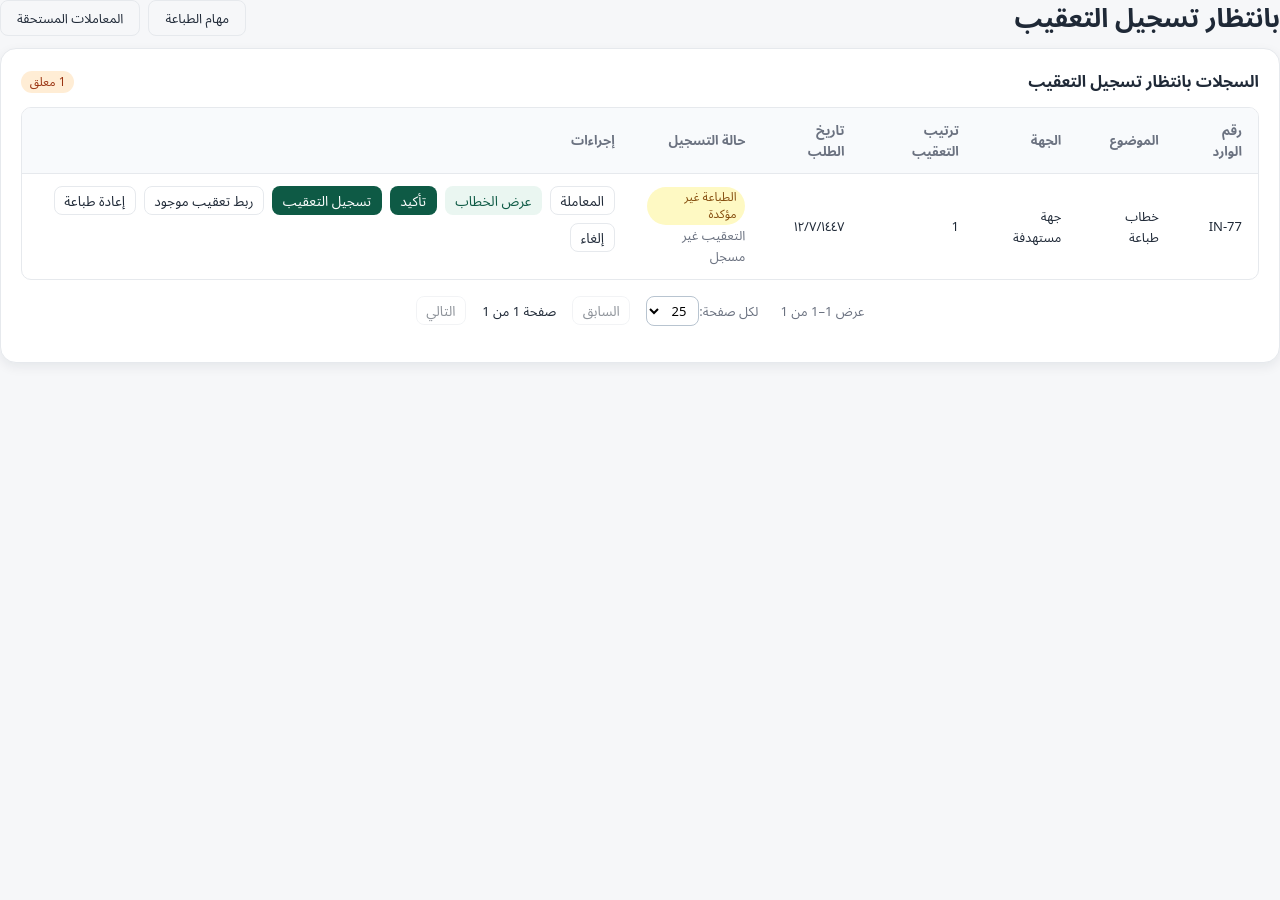
Test case: FollowUpPrintPendingPage › shows an empty-state message inside the link-existing modal when no follow-ups exist
The image size is (1280, 900).
Expected: the text "IN-77" is shown, [1175,174,1258,279]
Click the button "ربط تعقيب موجود".
click(204, 201)  # box [144,186,264,215]
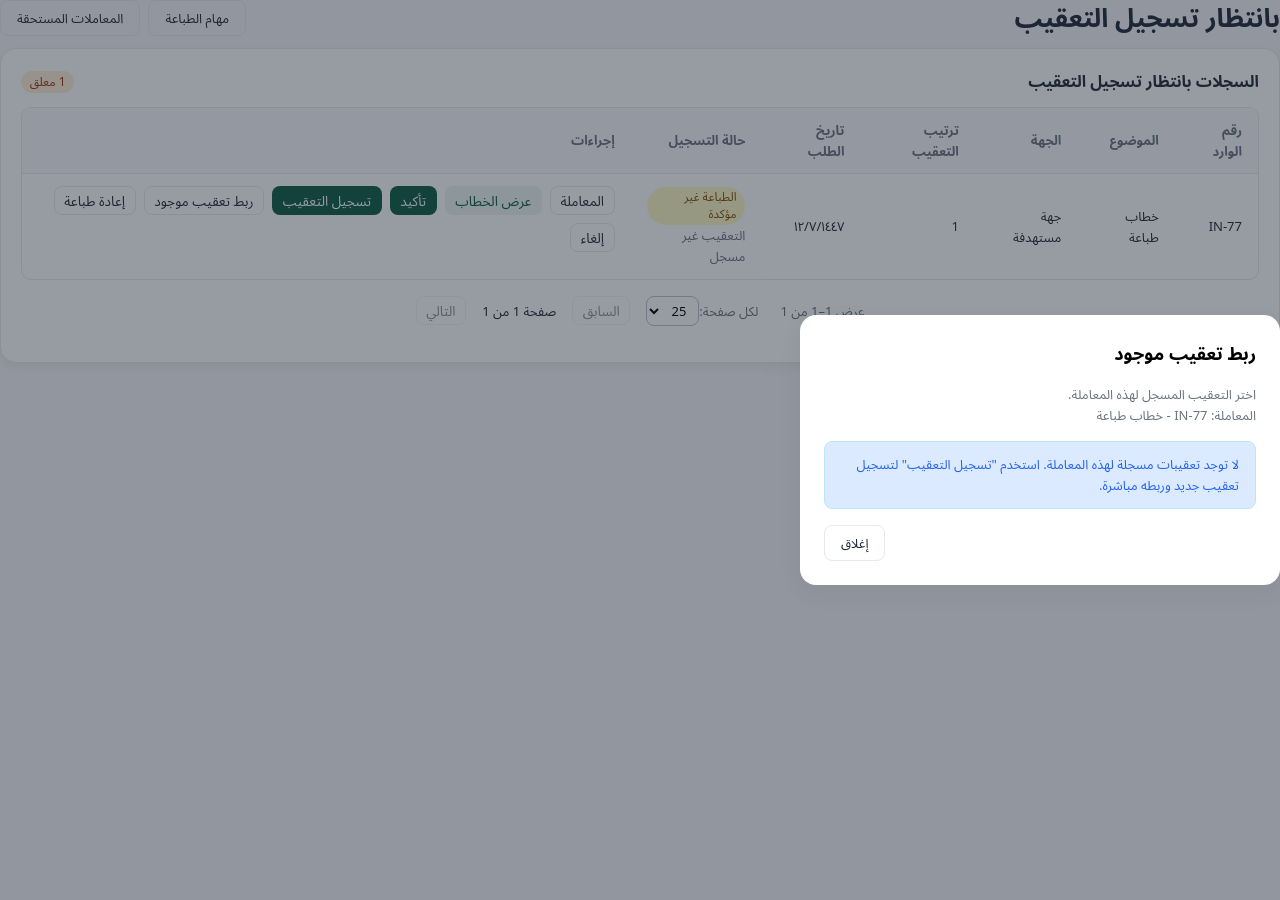
Expected: the text "لا توجد تعقيبات مسجلة لهذه المعاملة. استخدم \"تسجيل التعقيب\" لتسجيل تعقيب جديد وربطه مباشرة." is shown, [856,455,1239,494]
